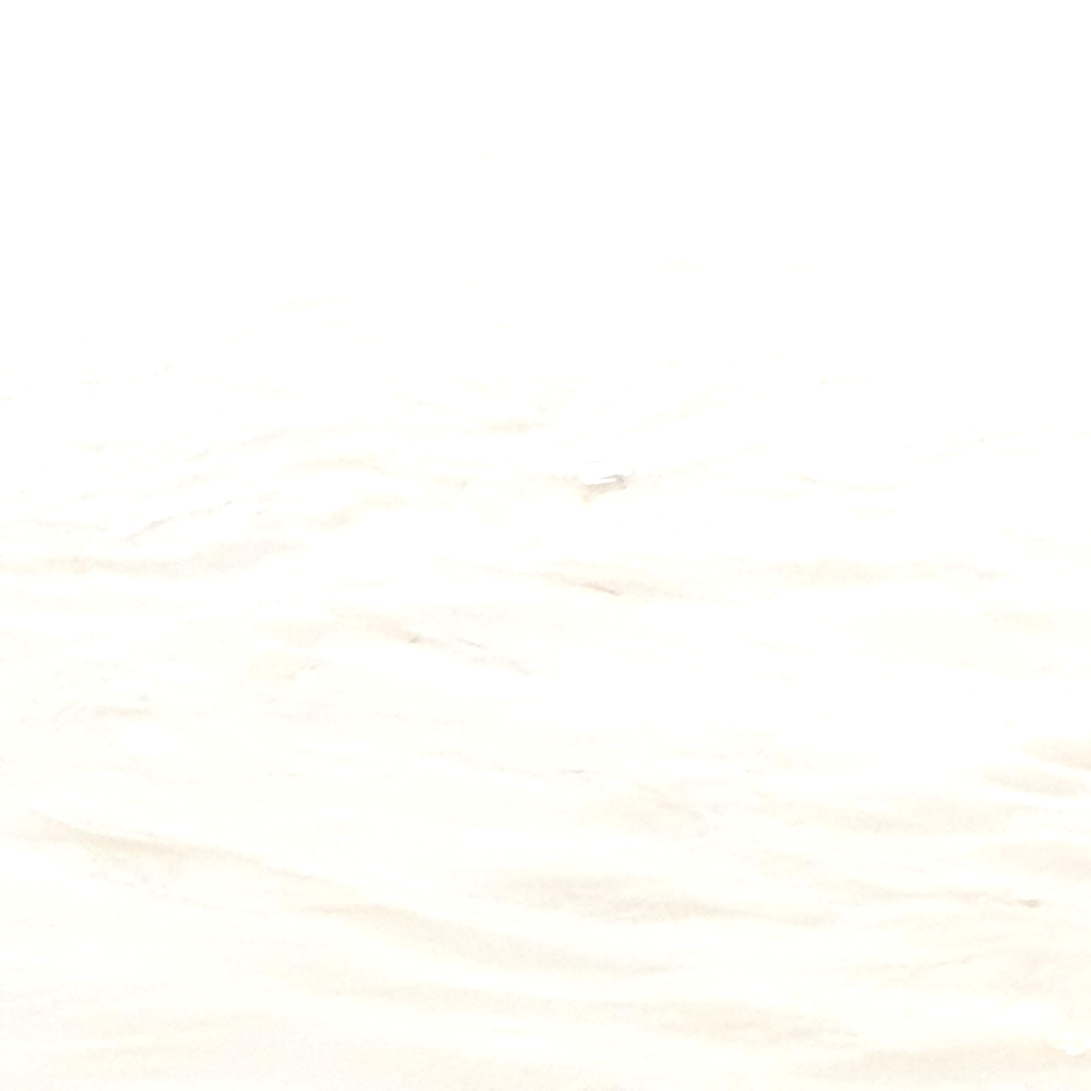sampah_terapung: (580, 462, 632, 485)
